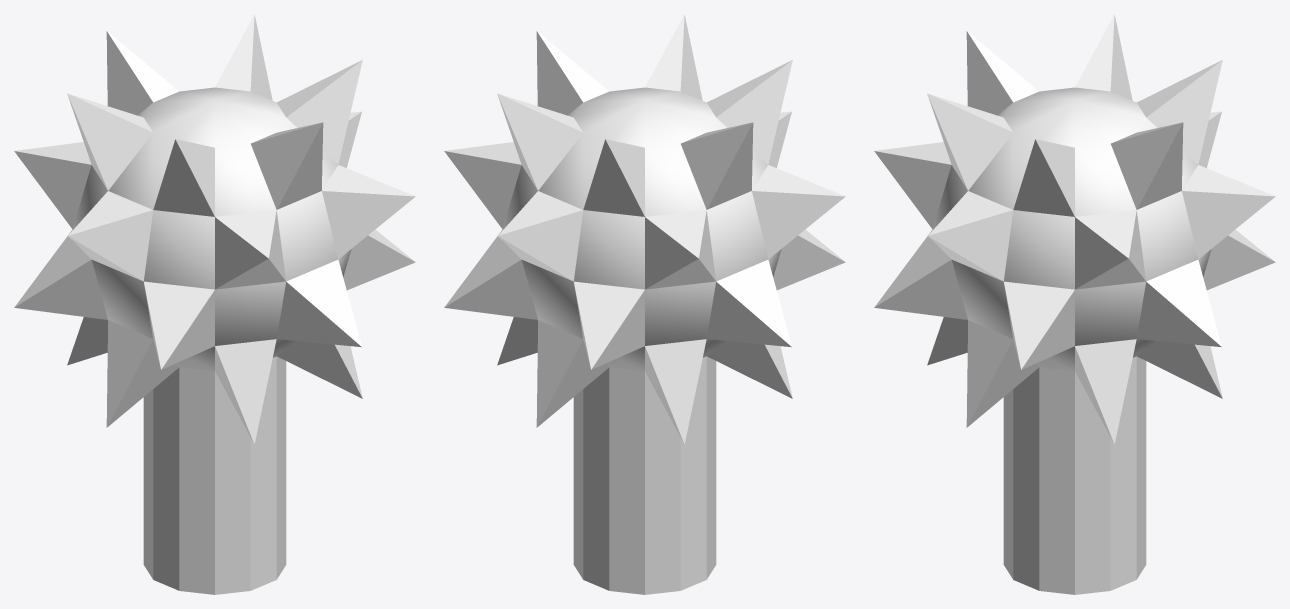
Rendered from Char_VT_ThornFlower.FBX.
3 views of the same model, side by side, from view 1: azimuth 30°, elevation 25°; view 2: azimuth 150°, elevation 25°; view 3: azimuth 270°, elevation 25° (orthographic).
Visible parts, largest first — view 1: Sphere003; view 2: Sphere003; view 3: Sphere003.
Boxes of the visible parts, box(x1,y1,x2,y2) form: Sphere003: box(14, 14, 415, 594); Sphere003: box(444, 14, 845, 594); Sphere003: box(874, 14, 1275, 594).
Bounding box in the file's own units: 13.46 × 18.69 × 13.46.
